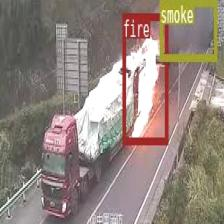fire: (122, 14, 168, 142)
smoke: (160, 0, 216, 60)
